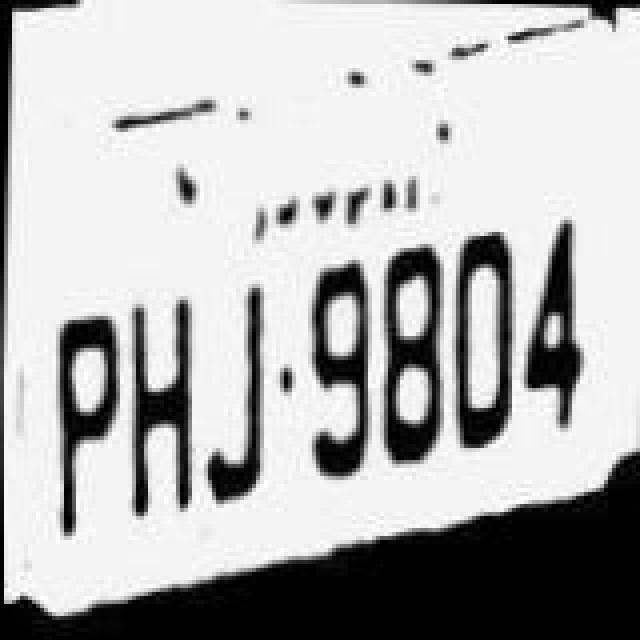4: (514, 190, 594, 458)
8: (370, 234, 446, 514)
9: (298, 238, 374, 510)
H: (116, 284, 200, 544)
J: (192, 264, 272, 532)
O: (446, 206, 526, 474)
P: (34, 292, 122, 564)
